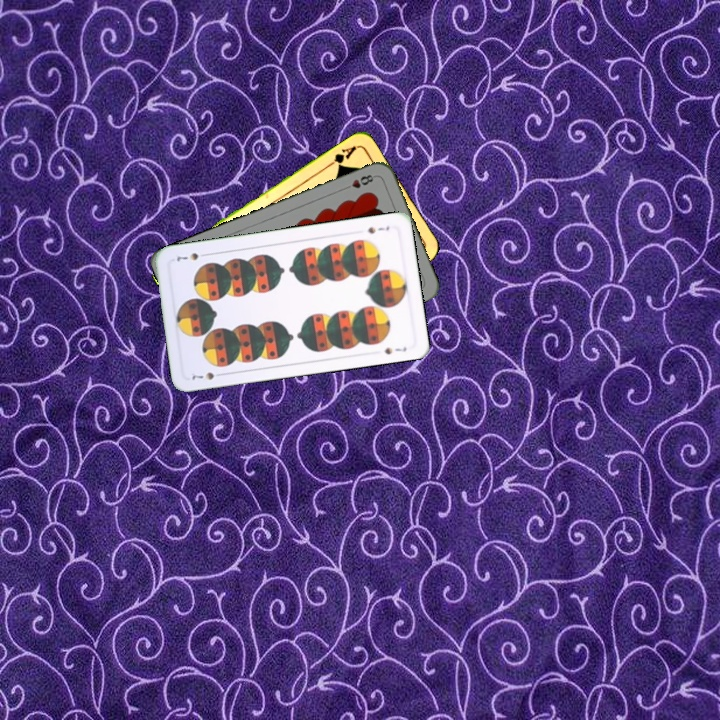GA: (323, 142, 359, 170)
H8: (339, 170, 378, 193)
S7: (188, 368, 227, 383), (364, 222, 392, 236)
